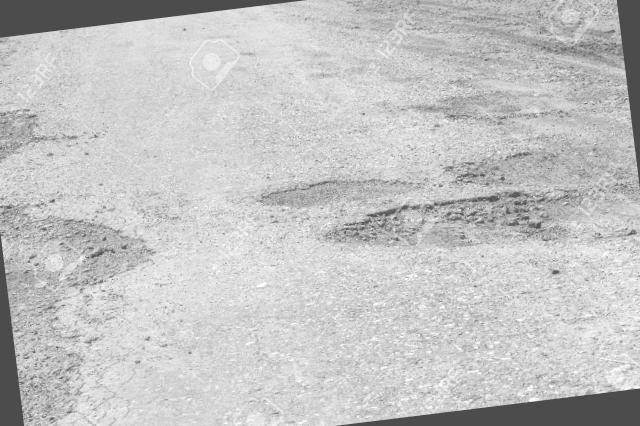Pothole: (0, 181, 205, 426), (296, 155, 640, 289), (450, 123, 640, 217), (256, 158, 427, 220), (0, 95, 74, 175)
